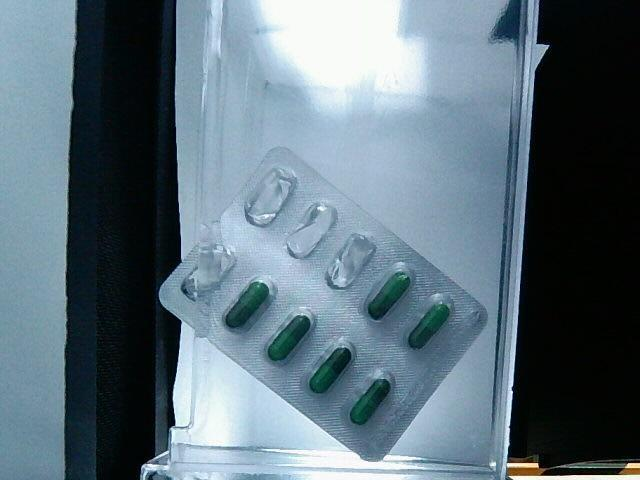Light Front: (155, 147, 487, 462)
No Pill Front: (245, 165, 296, 226), (181, 243, 236, 299), (286, 203, 337, 258), (325, 234, 376, 288)
Pill Front: (368, 271, 410, 319), (225, 281, 268, 327), (268, 315, 311, 361), (309, 348, 351, 393), (409, 304, 450, 349), (350, 379, 390, 425)
